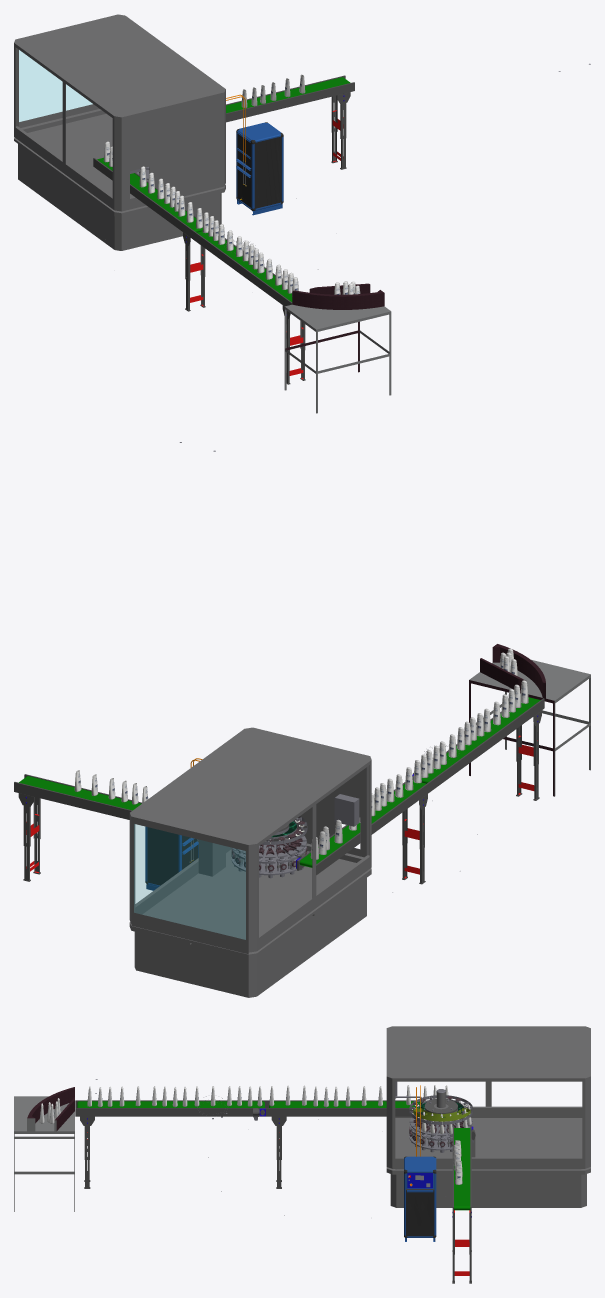
The model's file is packaginfilling_machine_12444.glb.
3 views of the same model, one above another, from view 1: azimuth 30°, elevation 25°; view 2: azimuth 150°, elevation 25°; view 3: azimuth 270°, elevation 25° (orthographic). The views are drawn at different scales.
Visible parts, largest first — view 1: Object_70, Object_73, Object_20, Object_14, Object_15, Object_35, Object_9, Object_75, Object_54, Object_77, Object_76, Object_21; view 2: Object_70, Object_15, Object_73, Object_35, Object_14, Object_9, Object_20, Object_75, Object_77, Object_76, Object_38, Object_51; view 3: Object_70, Object_73, Object_35, Object_14, Object_20, Object_54, Object_77, Object_75, Object_9, Object_76, Object_38, Object_72 (+2 smaller).
Part boxes in pixels (<box>): Object_70: <box>14,14,225,250</box>; Object_73: <box>93,75,354,384</box>; Object_20: <box>237,132,281,208</box>; Object_14: <box>284,304,391,413</box>; Object_15: <box>19,50,91,121</box>; Object_35: <box>97,77,350,301</box>; Object_9: <box>285,283,384,372</box>; Object_75: <box>139,166,348,294</box>; Object_54: <box>236,122,283,215</box>; Object_77: <box>148,74,353,294</box>; Object_76: <box>208,216,360,296</box>; Object_21: <box>186,110,343,379</box>; Object_70: <box>129,727,371,997</box>; Object_15: <box>134,824,245,939</box>; Object_73: <box>14,698,544,884</box>; Object_35: <box>19,697,540,867</box>; Object_14: <box>469,659,590,796</box>; Object_9: <box>469,644,554,796</box>; Object_20: <box>147,827,197,885</box>; Object_75: <box>349,656,515,830</box>; Object_77: <box>74,652,511,843</box>; Object_76: <box>426,648,528,773</box>; Object_38: <box>231,834,306,878</box>; Object_51: <box>288,794,359,838</box>; Object_70: <box>386,1026,590,1207</box>; Object_73: <box>75,1100,475,1283</box>; Object_35: <box>77,1101,470,1210</box>; Object_14: <box>14,1096,74,1211</box>; Object_20: <box>406,1189,434,1236</box>; Object_54: <box>404,1156,436,1241</box>; Object_77: <box>47,1085,462,1184</box>; Object_75: <box>54,1085,382,1119</box>; Object_9: <box>27,1087,74,1130</box>; Object_76: <box>39,1086,252,1123</box>; Object_38: <box>409,1101,472,1152</box>; Object_72: <box>413,1108,470,1121</box>.
Bounding box in the file's own units: 1974 × 1258 × 2842.
39 materials, 4 textured.
